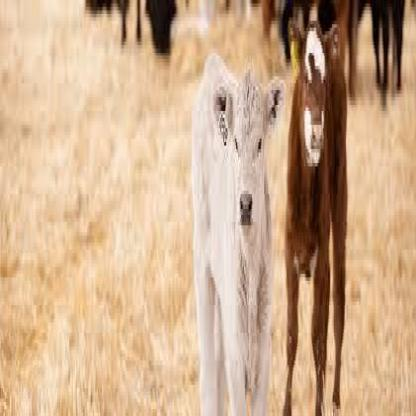cow: (192, 48, 285, 412), (286, 3, 350, 416)
